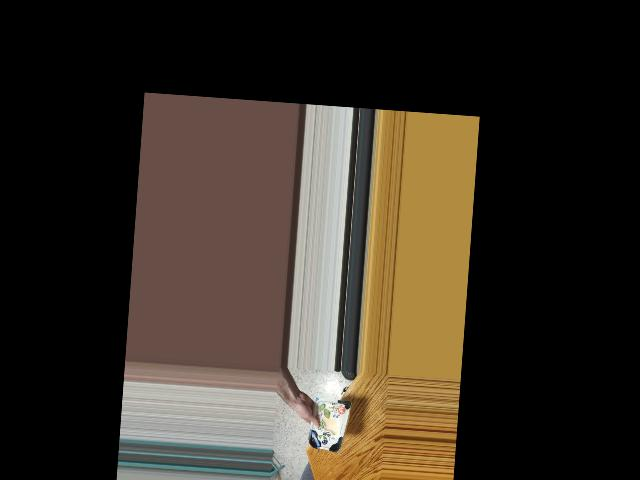cheese: (301, 396, 351, 451)
